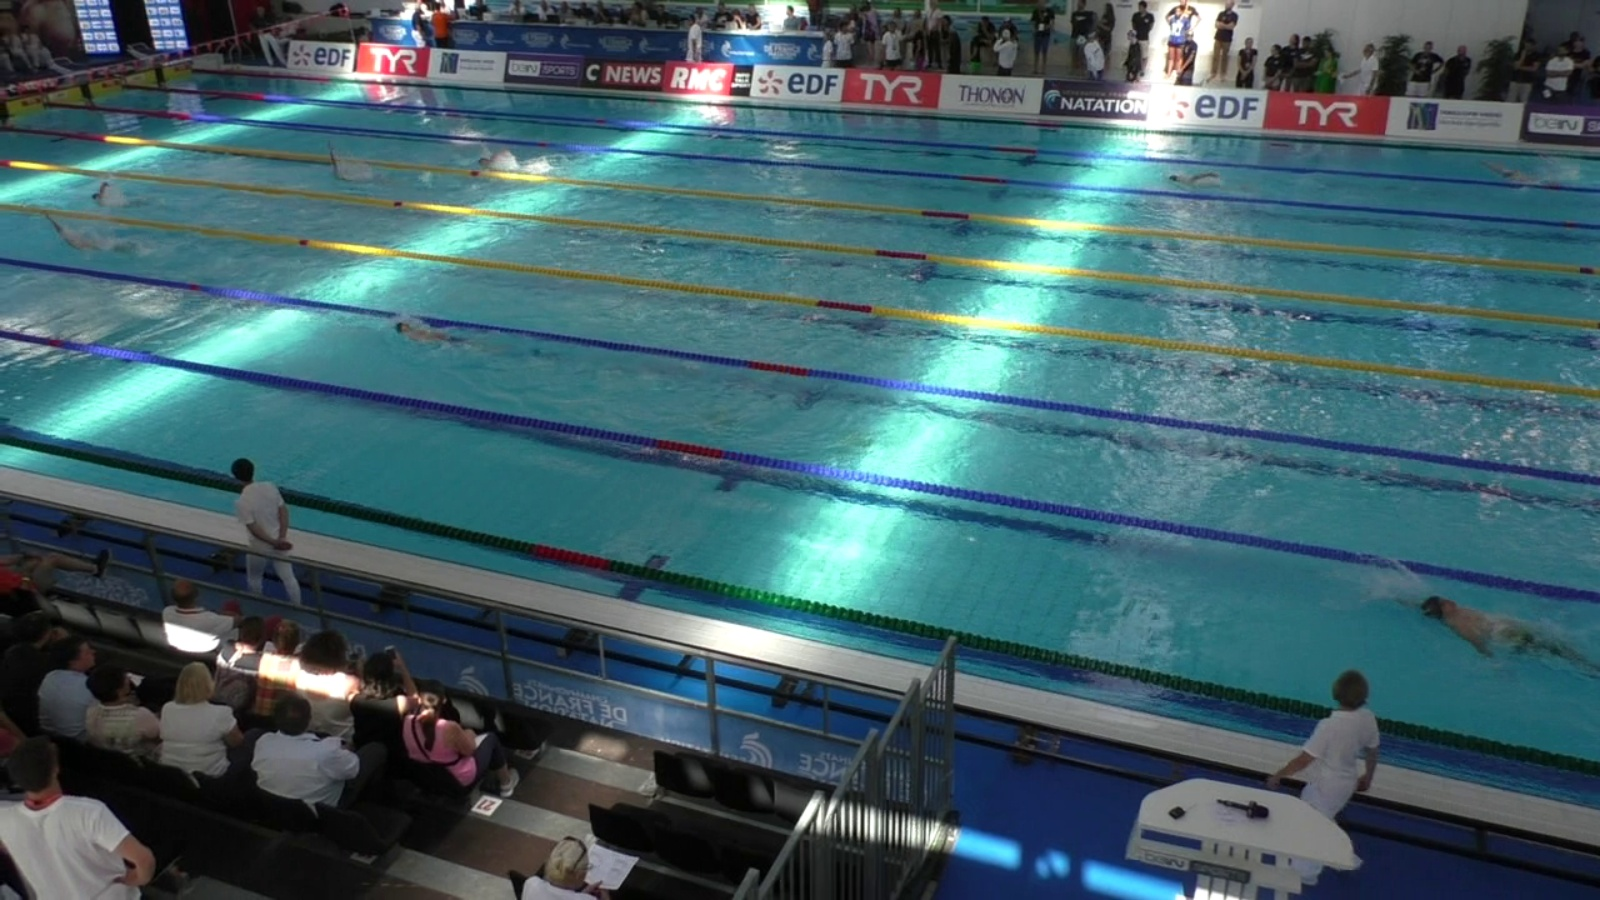swimmerw: (1399, 580, 1581, 673), (35, 208, 138, 256), (386, 319, 481, 356), (1478, 153, 1593, 184), (467, 145, 553, 184), (321, 143, 395, 187), (81, 177, 154, 213), (1165, 167, 1243, 195)
